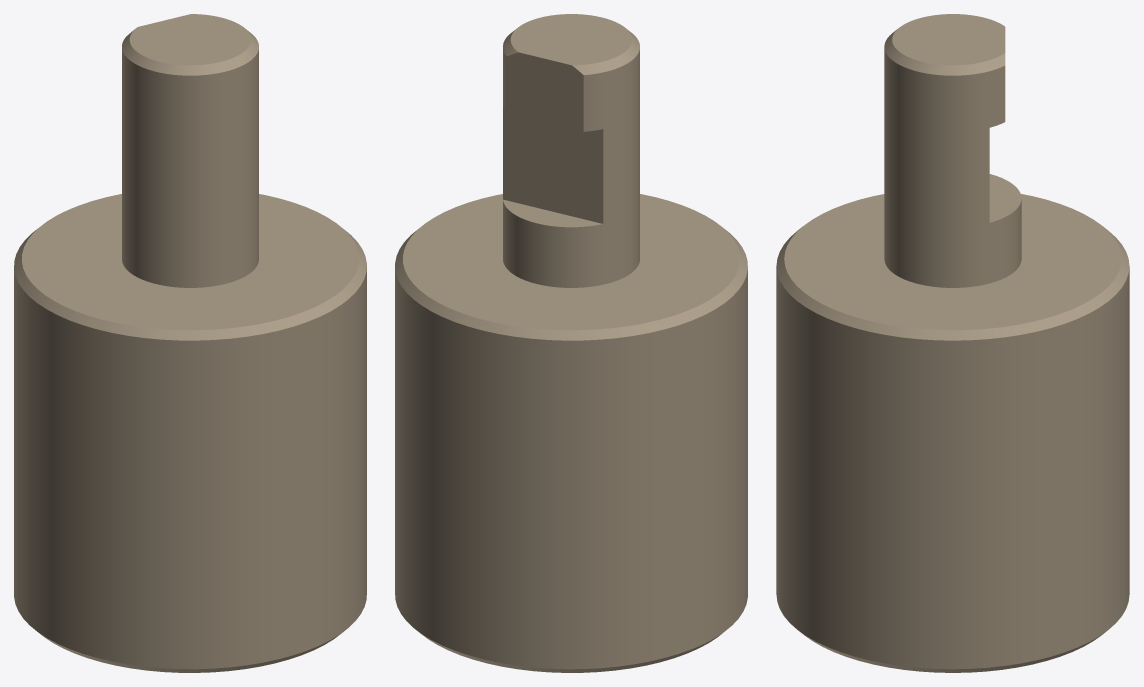
The model's file is asset.gltf.
The picture shows the model from 3 angles, left to right: view 1: azimuth 30°, elevation 25°; view 2: azimuth 150°, elevation 25°; view 3: azimuth 270°, elevation 25°; orthographic projection.
Parts seen in each view (by area): view 1: 円; view 2: 円; view 3: 円.
Part boxes in pixels (x1,y1,x2,y2): 円: (14,14,366,672); 円: (395,14,747,672); 円: (776,14,1129,672).
Bounding box in the file's own units: 1.1 × 1.93 × 1.1.
